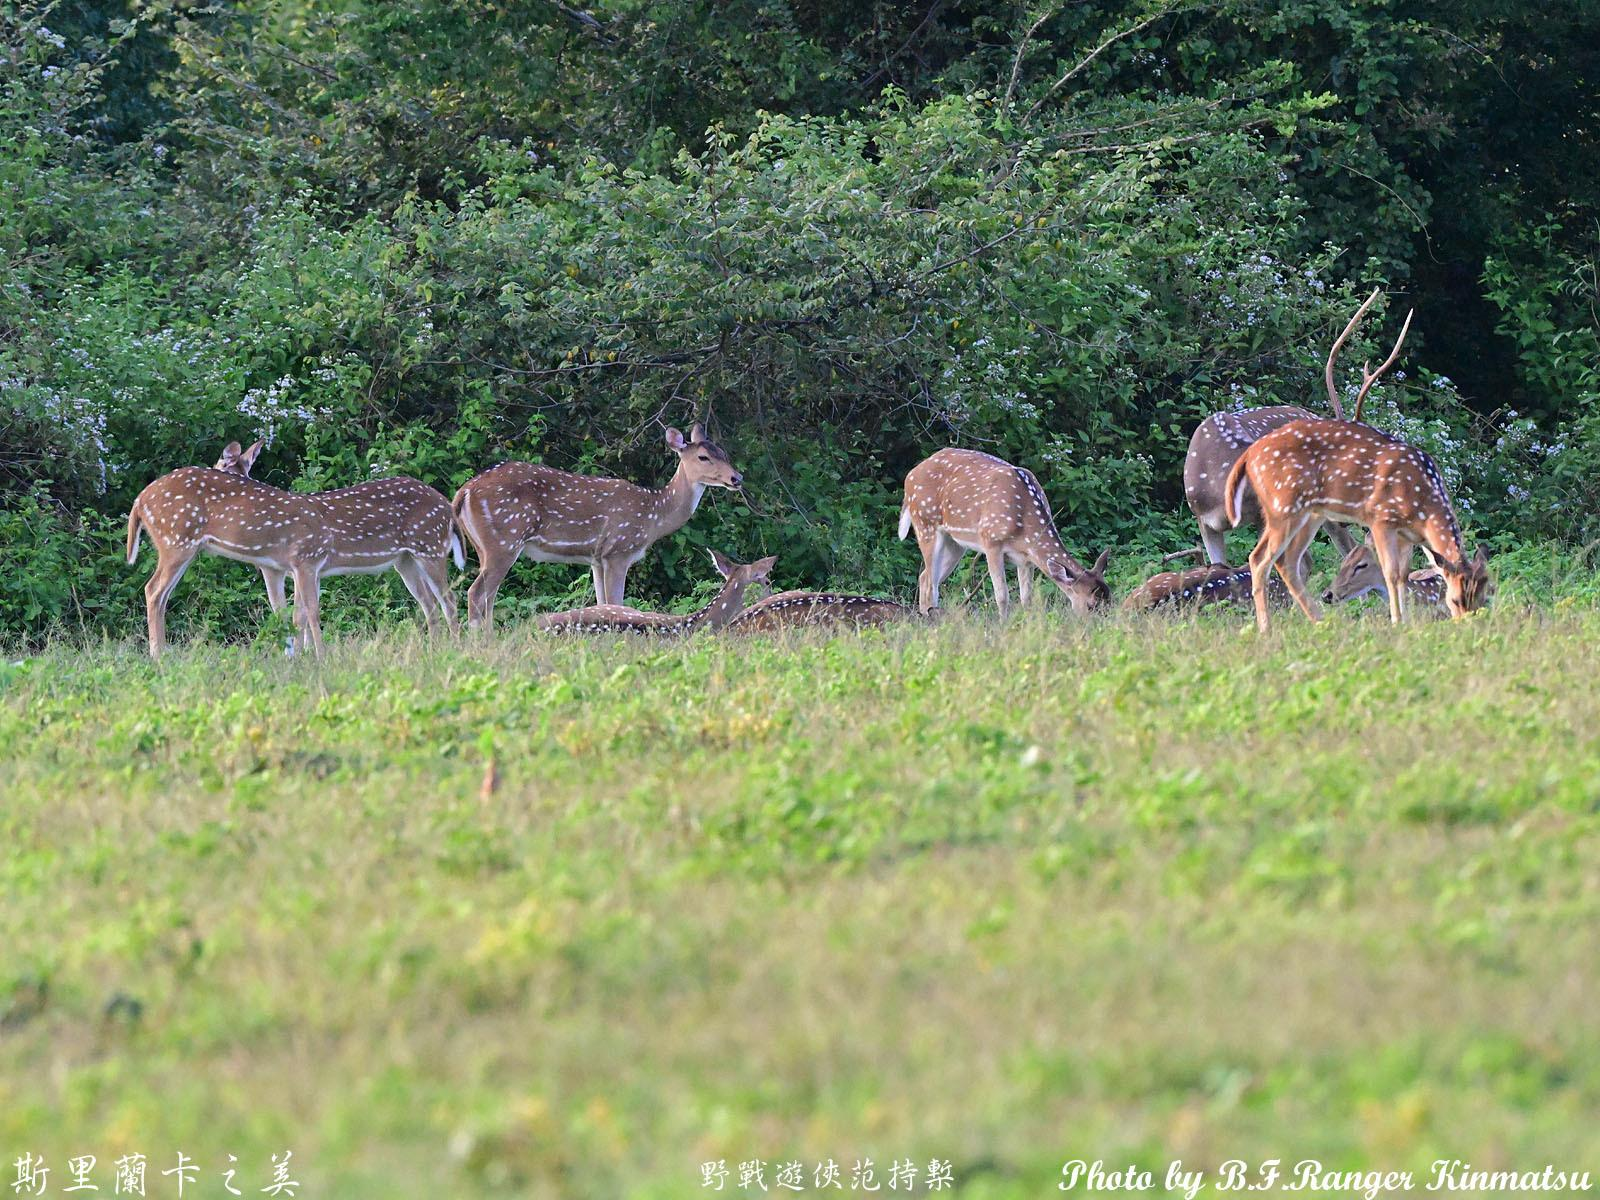Deer: (452, 427, 741, 629), (1214, 418, 1487, 630), (900, 447, 1109, 615), (312, 476, 464, 634), (1184, 406, 1323, 563), (537, 550, 776, 635), (729, 590, 912, 632), (1123, 566, 1228, 610), (1322, 541, 1385, 603), (1327, 524, 1351, 551)
